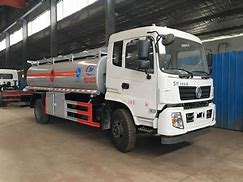oil truck: (24, 22, 217, 150)
